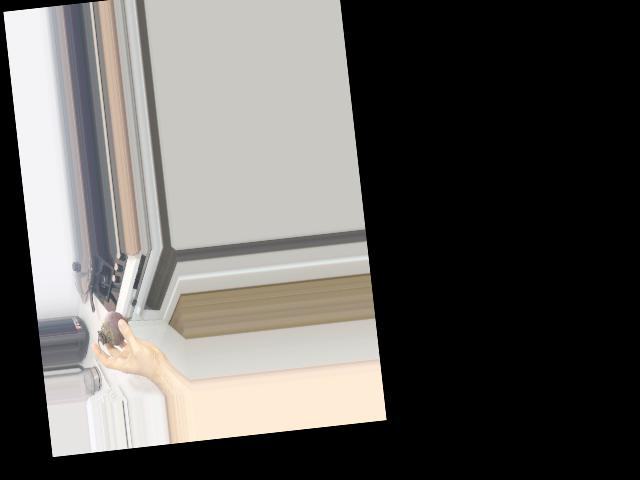beet: (95, 309, 137, 356)
